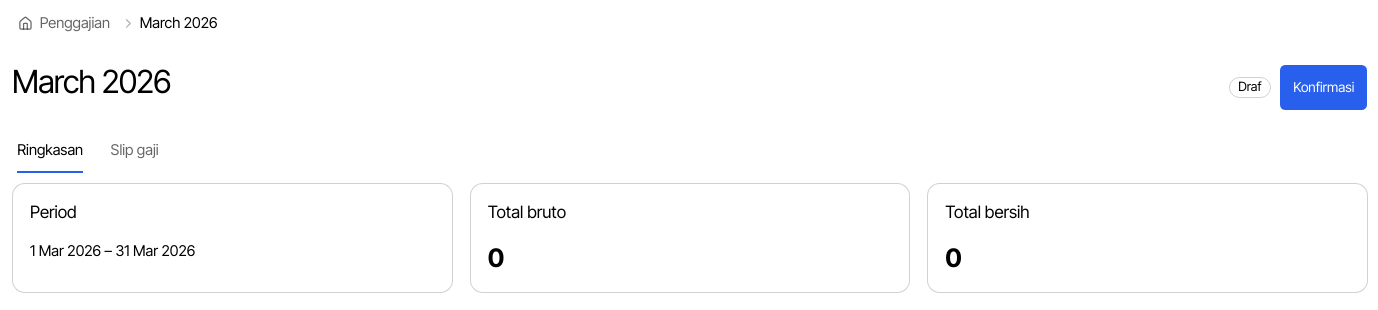
Scenario: PayrollRunDetail remainder › shows the empty payslips message on the payslips tab
Click the tab "Slip gaji": (135, 151) left=110, top=128, right=160, bottom=174
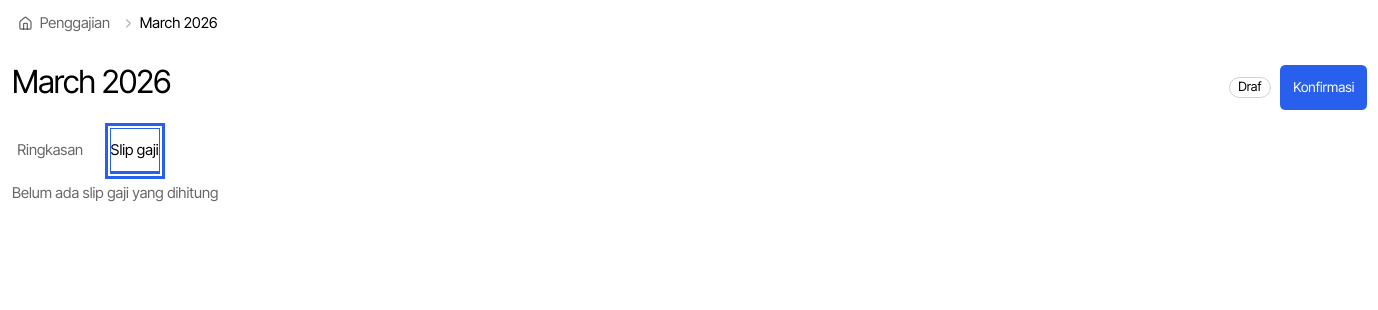
Result: the text "Belum ada slip gaji yang dihitung" is shown at left=12, top=184, right=218, bottom=202
